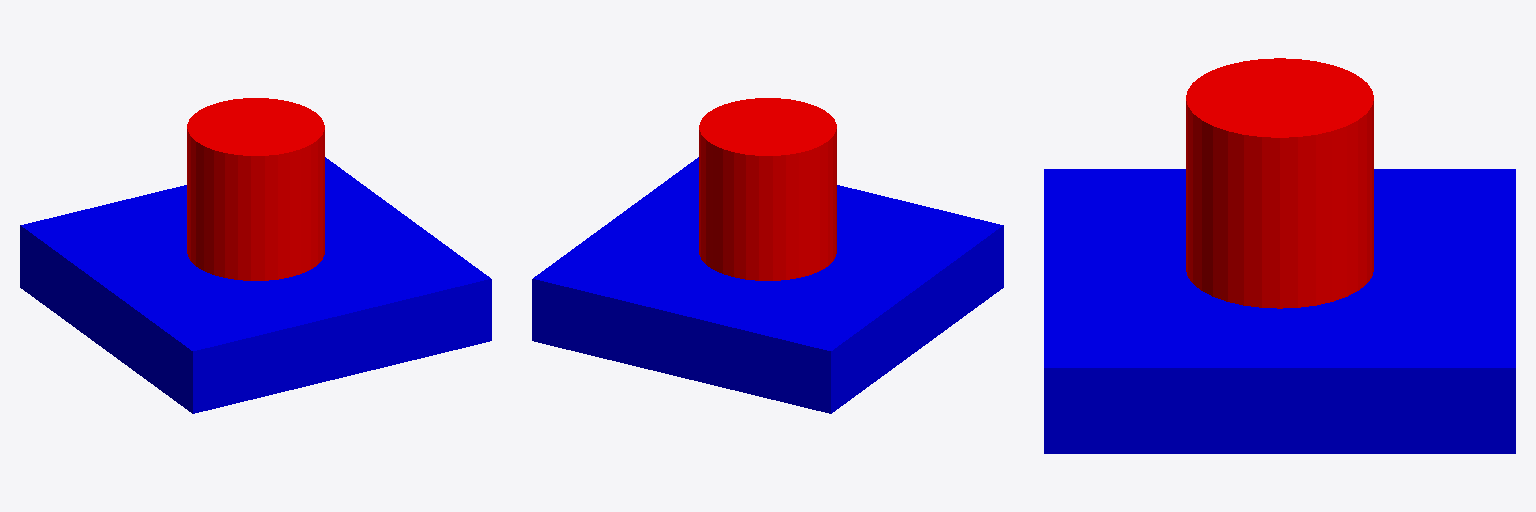
robot.urdf — planar_joint_example:
<?xml version="1.0"?>
<robot name="planar_joint_example">

  <!-- Base Link -->
  <link name="base_link">
    <visual>
      <geometry>
        <box size="0.5 0.5 0.1"/>
      </geometry>
      <origin xyz="0 0 0" rpy="0 0 0"/>
      <material name="blue">
        <color rgba="0 0 1 1"/>
      </material>
    </visual>
    <collision>
      <geometry>
        <box size="0.5 0.5 0.1"/>
      </geometry>
      <origin xyz="0 0 0" rpy="0 0 0"/>
    </collision>
    <inertial>
      <mass value="1.0"/>
      <inertia ixx="0.01" ixy="0.0" ixz="0.0" iyy="0.01" iyz="0.0" izz="0.01"/>
    </inertial>
  </link>

  <!-- Moving Link -->
  <link name="moving_link">
    <visual>
      <geometry>
        <cylinder radius="0.1" length="0.2"/>
      </geometry>
      <origin xyz="0 0 0.1" rpy="0 0 0"/>
      <material name="red">
        <color rgba="1 0 0 1"/>
      </material>
    </visual>
    <collision>
      <geometry>
        <cylinder radius="0.1" length="0.2"/>
      </geometry>
      <origin xyz="0 0 0.1" rpy="0 0 0"/>
    </collision>
    <inertial>
      <mass value="0.5"/>
      <inertia ixx="0.005" ixy="0.0" ixz="0.0" iyy="0.005" iyz="0.0" izz="0.005"/>
    </inertial>
  </link>

  <!-- Planar Joint -->
  <joint name="planar_joint" type="planar">
    <parent link="base_link"/>
    <child link="moving_link"/>
    <origin xyz="0 0 0.05" rpy="0 0 0"/>
    <axis xyz="0 0 1"/> <!-- Rotation around z-axis -->
    <limit effort="1000" velocity="1.0" lower="-0.5" upper="0.5"/> <!-- Limits for translation -->
  </joint>

</robot>

--- Render facts (derived) ---
Views: 3 orthographic renders of the robot side by side, from view 1: azimuth 30°, elevation 25°; view 2: azimuth 150°, elevation 25°; view 3: azimuth 270°, elevation 25°.
Model planar_joint_example with 2 links and 1 joints (1 planar), rooted at base_link, posed all joints at 0.
Visible links, largest first — view 1: base_link, moving_link; view 2: base_link, moving_link; view 3: base_link, moving_link.
Link boxes in pixels (x1=…): base_link: x1=20, y1=157, x2=491, y2=413; moving_link: x1=187, y1=98, x2=324, y2=280; base_link: x1=532, y1=157, x2=1003, y2=413; moving_link: x1=699, y1=98, x2=836, y2=280; base_link: x1=1044, y1=169, x2=1515, y2=453; moving_link: x1=1186, y1=58, x2=1373, y2=308.
Bounding box of the posed robot: 0.5 × 0.5 × 0.3 m (x, y, z).
Geometry: primitives only (box / cylinder / sphere), no mesh files.